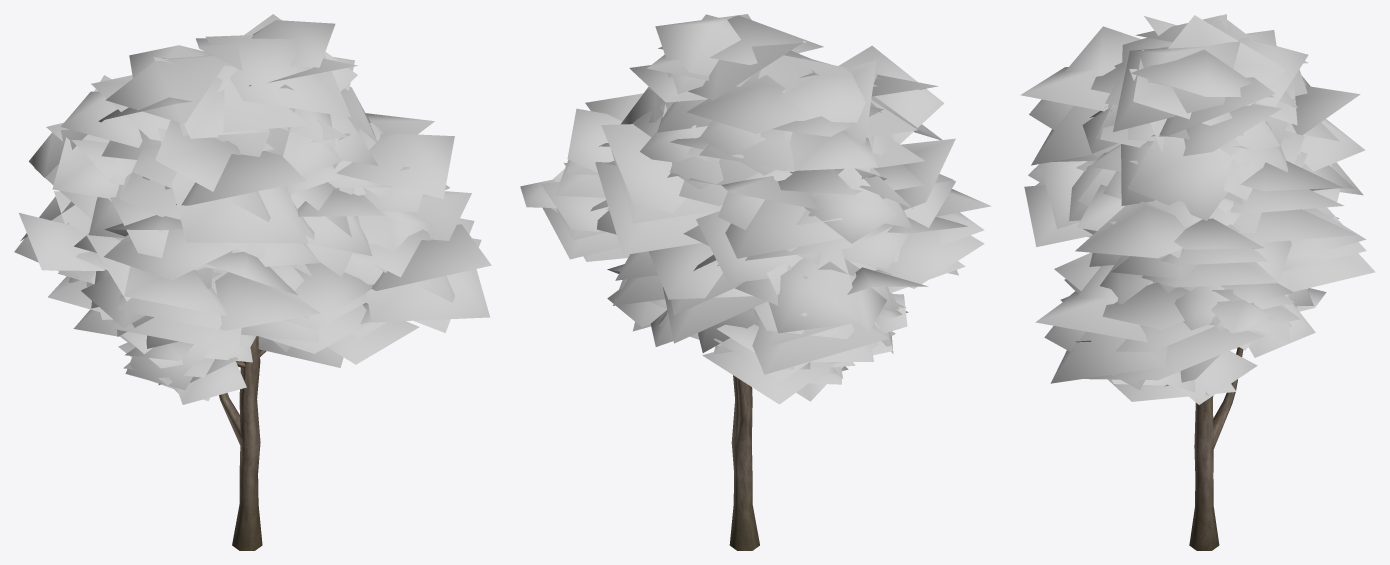
Rendered from Gmelina Tree.fbx.
3 renders of one model, left to right at view 1: azimuth 30°, elevation 25°; view 2: azimuth 150°, elevation 25°; view 3: azimuth 270°, elevation 25°, orthographic.
Parts seen in each view (by area): view 1: Tree_LOD0; view 2: Tree_LOD0; view 3: Tree_LOD0.
Boxes of the visible parts, x1,y1,x2,y2 form: Tree_LOD0: (14, 14, 491, 550); Tree_LOD0: (520, 14, 991, 550); Tree_LOD0: (1020, 14, 1375, 550).
Size of what is drawn, in the model's own units: 694 by 843 by 534.
